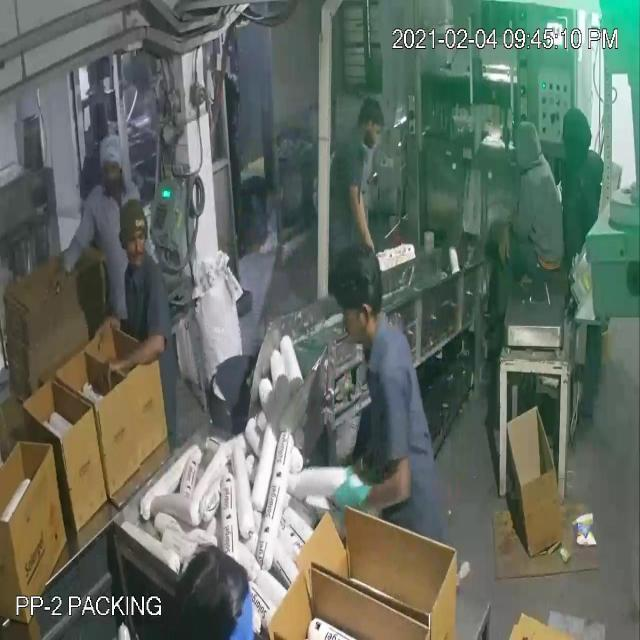No_Gloves: (28, 50, 506, 499)
